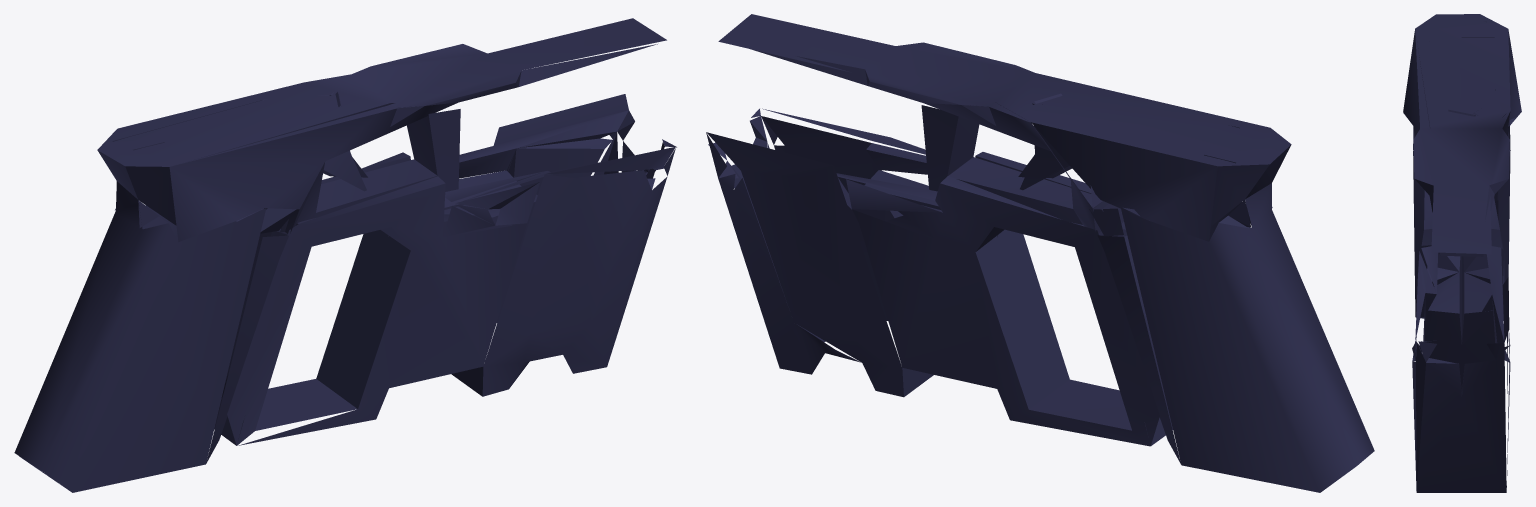
Rendered from empunadura.glb.
3 renders of one model, left to right at view 1: azimuth 30°, elevation 25°; view 2: azimuth 150°, elevation 25°; view 3: azimuth 270°, elevation 25°, orthographic. The views are drawn at different scales.
Parts seen in each view (by area): view 1: empunadura; view 2: empunadura; view 3: empunadura.
Part boxes in pixels (box(x1,y1,x2,y2)): empunadura: box(14, 18, 676, 492); empunadura: box(706, 14, 1374, 492); empunadura: box(1403, 14, 1521, 492).
Bounding box in the file's own units: 0.2022 × 0.0955 × 0.0371.
